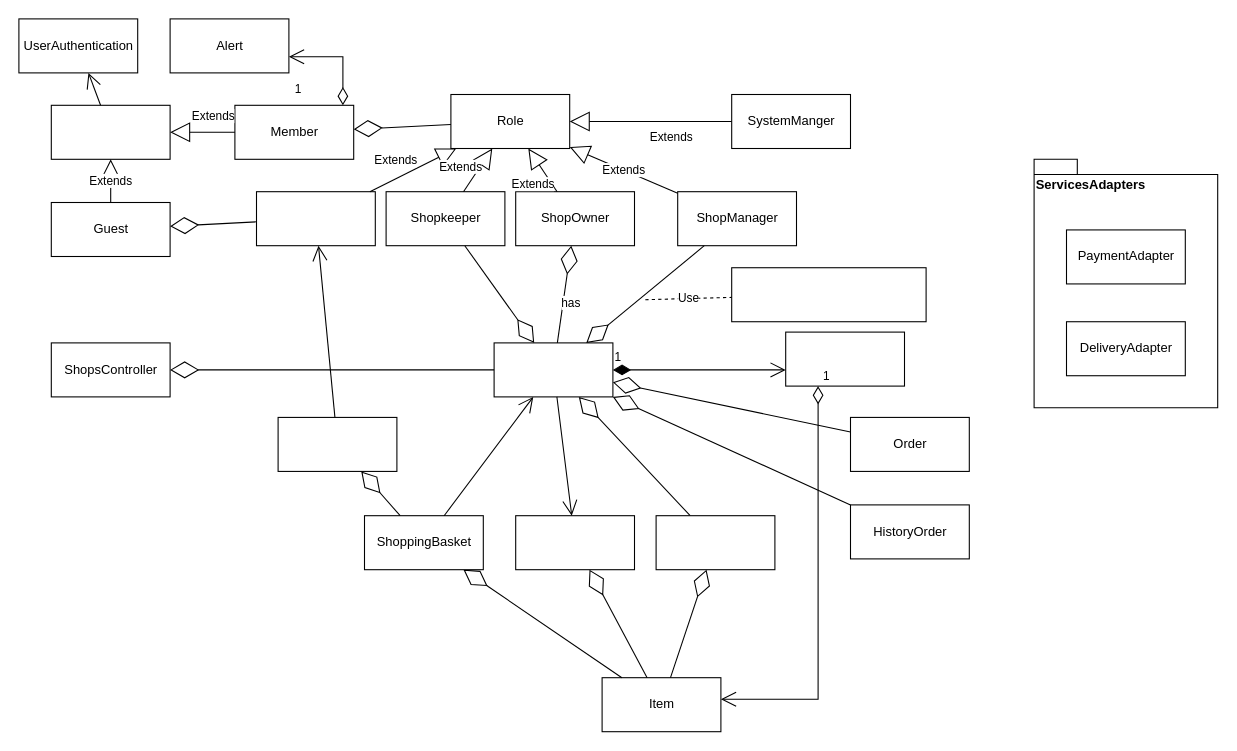
Some shapes in this 1237 by 751 pixel diagram are drawn without their labels. Here are the shapes that lost their labels. From the top down, the centre of each, then its label:
At point (110, 131): "User".
At point (315, 218): "Buyer".
At point (828, 294): "StoreManagementPermissions".
At point (553, 369): "Shop".
At point (845, 358): "Discount".
At point (337, 443): "Cart".
At point (574, 542): "Stock".
At point (715, 542): "Category".
